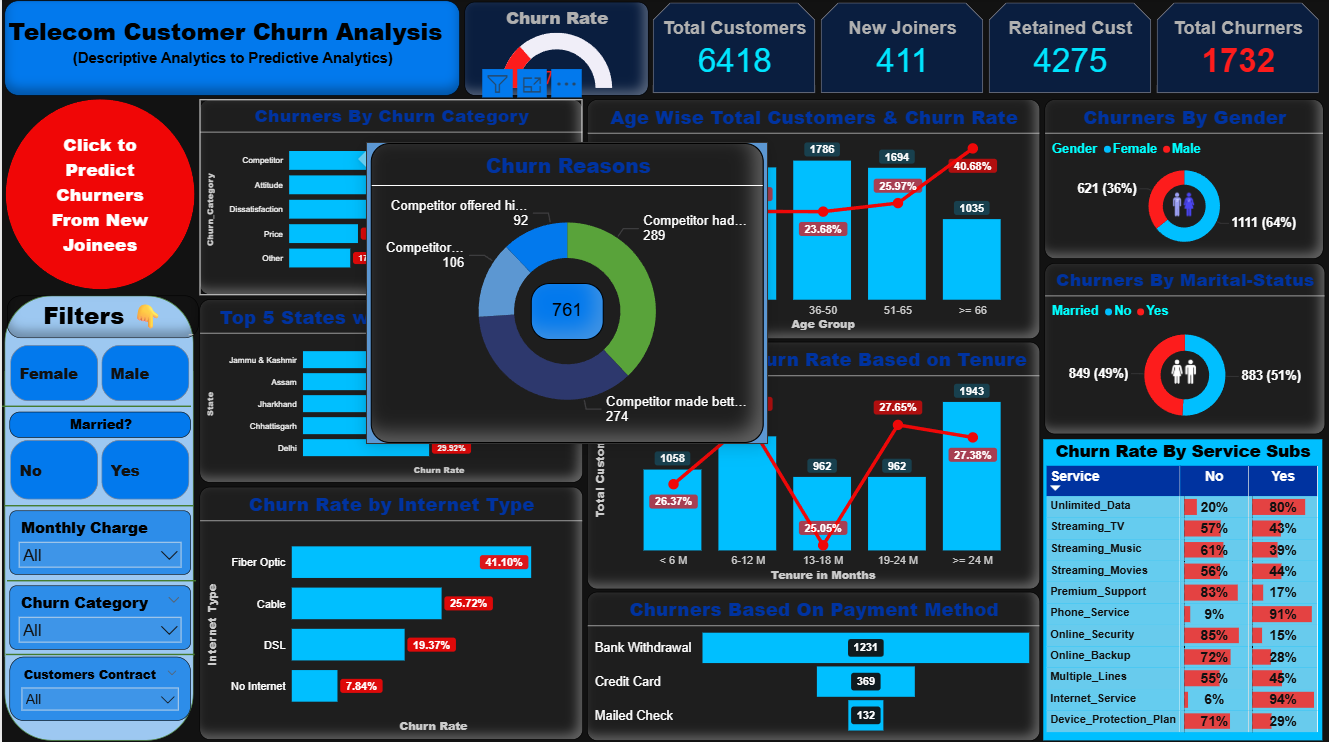

The page's visual inventory and layout, read from the dashboard file:
{"tool":"powerbi","page":{"name":"Churn Analytics","canvas":[1920,1080],"ordinal":0},"visuals":[{"type":"shape","box":[5.4,146.6,273.3,275.1],"z":0},{"type":"shape","box":[3.7,430.3,273.8,644.5],"z":1000},{"type":"donutChart","title":"Churners By Marital-Status","fields":{"Y":["_Measures.Total Churners"],"Category":["customer_cleaned_data.Married"]},"box":[1508.7,383.7,406.1,247.7],"z":2000},{"type":"image","box":[1678.2,514.1,67.1,54],"z":3000},{"type":"donutChart","title":"Churners By Gender","fields":{"Category":["customer_cleaned_data.Gender"],"Y":["_Measures.Total Churners"]},"box":[1508.7,147.1,404.2,231],"z":4000},{"type":"gauge","fields":{"Y":["_Measures.Churn Rate"]},"box":[668.7,5.6,266.4,136],"z":5000},{"type":"cardVisual","fields":{"Data":["Table.Total Customers","_Measures.New Joiners","_Measures.Retained Customers","_Measures.Total Churners"]},"box":[936.9,2,976,141.6],"z":6000},{"type":"lineStackedColumnComboChart","title":"Age Wise Total Customers & Churn Rate","fields":{"Category":["AgeGroup_Mapping.Age Group"],"Y":["_Measures.Total Customers"],"Y2":["_Measures.Churn Rate"]},"box":[846.2,146.7,656,346.8],"z":7000},{"type":"funnel","title":"Churners Based On Payment Method","fields":{"Category":["customer_cleaned_data.Payment_Method"],"Y":["_Measures.Total Churners"]},"box":[846.2,860.1,656,216],"z":8000},{"type":"lineStackedColumnComboChart","title":"Customers & Churn Rate Based on Tenure","fields":{"Y":["_Measures.Total Customers"],"Y2":["_Measures.Churn Rate"],"Category":["TenureGroup_Mapping.Tenure Group"]},"box":[846.2,497.4,656,358.7],"z":9000},{"type":"clusteredBarChart","title":"Top 5 States with Max Churn Rate","fields":{"Category":["customer_cleaned_data.State"],"Y":["_Measures.Churn Rate"]},"box":[285.4,436,554.9,265.6],"z":10000},{"type":"clusteredBarChart","title":"Churners By Churn Category","fields":{"Category":["customer_cleaned_data.Churn_Category"],"Y":["_Measures.Total Churners"]},"box":[285.4,146.7,554.9,283.4],"z":11000},{"type":"clusteredBarChart","fields":{"Category":["customer_cleaned_data.Internet_Type"],"Y":["_Measures.Churn Rate"]},"box":[285.4,707.5,554.9,366.6],"z":12000},{"type":"pivotTable","title":"Churn Rate By Service Subs","fields":{"Rows":["ProductService_RefTable.Service"],"Columns":["ProductService_RefTable.Service Status"],"Values":["Sum(ProductService_RefTable.Churn_Status)"]},"box":[1508.2,638.2,404.3,436],"z":13000},{"type":"image","box":[1678.2,271.9,67.1,54],"z":14000},{"type":"textbox","title":"Telecom Customer Churn Analysis","box":[3.7,3.7,659.4,137.8],"z":15000},{"type":"textbox","title":"Filters 👇","box":[7.5,430.3,277.5,61.5],"z":16000},{"type":"advancedSlicerVisual","fields":{"Values":["customer_cleaned_data.Gender"]},"box":[7.5,497.3,270.1,91.3],"z":17000},{"type":"advancedSlicerVisual","fields":{"Values":["customer_cleaned_data.Married"]},"box":[7.5,635.2,270.1,96.9],"z":18000},{"type":"shape","box":[0,583,273.8,16.8],"z":19000},{"type":"textbox","title":"Married?","box":[11.2,599.8,262.6,37.3],"z":20000},{"type":"shape","box":[3.7,724.6,273.8,22.4],"z":21000},{"type":"slicer","fields":{"Values":["customer_cleaned_data.Monthly Charge Range"]},"box":[11.2,741.3,262.6,93.1],"z":22000},{"type":"slicer","fields":{"Values":["customer_cleaned_data.Churn_Category"]},"box":[11.2,851.2,262.6,93.1],"z":23000},{"type":"shape","box":[7.5,832.6,273.8,22.4],"z":24000},{"type":"shape","box":[5.6,938.8,273.8,22.4],"z":25000},{"type":"slicer","fields":{"Values":["customer_cleaned_data.Contract"]},"box":[11.2,953.7,262.6,93.1],"z":26000}]}

Visuals, with their boxes in screenshot pixels (x1, y1, x2, y2), scaled from the page's 1920x1080 canvas onto the 1329x742 screenshot:
shape: x1=4, y1=101, x2=193, y2=290
shape: x1=3, y1=296, x2=192, y2=738
"Churners By Marital-Status" donutChart: x1=1044, y1=264, x2=1325, y2=434
image: x1=1162, y1=353, x2=1208, y2=390
"Churners By Gender" donutChart: x1=1044, y1=101, x2=1324, y2=260
gauge - _Measures.Churn Rate: x1=463, y1=4, x2=647, y2=97
cardVisual - Table.Total Customers x _Measures.New Joiners: x1=649, y1=1, x2=1324, y2=99
"Age Wise Total Customers & Churn Rate" lineStackedColumnComboChart: x1=586, y1=101, x2=1040, y2=339
"Churners Based On Payment Method" funnel: x1=586, y1=591, x2=1040, y2=739
"Customers & Churn Rate Based on Tenure" lineStackedColumnComboChart: x1=586, y1=342, x2=1040, y2=588
"Top 5 States with Max Churn Rate" clusteredBarChart: x1=198, y1=300, x2=582, y2=482
"Churners By Churn Category" clusteredBarChart: x1=198, y1=101, x2=582, y2=295
clusteredBarChart - customer_cleaned_data.Internet_Type x _Measures.Churn Rate: x1=198, y1=486, x2=582, y2=738
"Churn Rate By Service Subs" pivotTable: x1=1044, y1=438, x2=1324, y2=738
image: x1=1162, y1=187, x2=1208, y2=224
"Telecom Customer Churn Analysis" textbox: x1=3, y1=3, x2=459, y2=97
"Filters 👇" textbox: x1=5, y1=296, x2=197, y2=338
advancedSlicerVisual - customer_cleaned_data.Gender: x1=5, y1=342, x2=192, y2=404
advancedSlicerVisual - customer_cleaned_data.Married: x1=5, y1=436, x2=192, y2=503
shape: x1=0, y1=401, x2=190, y2=412
"Married?" textbox: x1=8, y1=412, x2=190, y2=438
shape: x1=3, y1=498, x2=192, y2=513
slicer - customer_cleaned_data.Monthly Charge Range: x1=8, y1=509, x2=190, y2=573
slicer - customer_cleaned_data.Churn_Category: x1=8, y1=585, x2=190, y2=649
shape: x1=5, y1=572, x2=195, y2=587
shape: x1=4, y1=645, x2=193, y2=660
slicer - customer_cleaned_data.Contract: x1=8, y1=655, x2=190, y2=719
